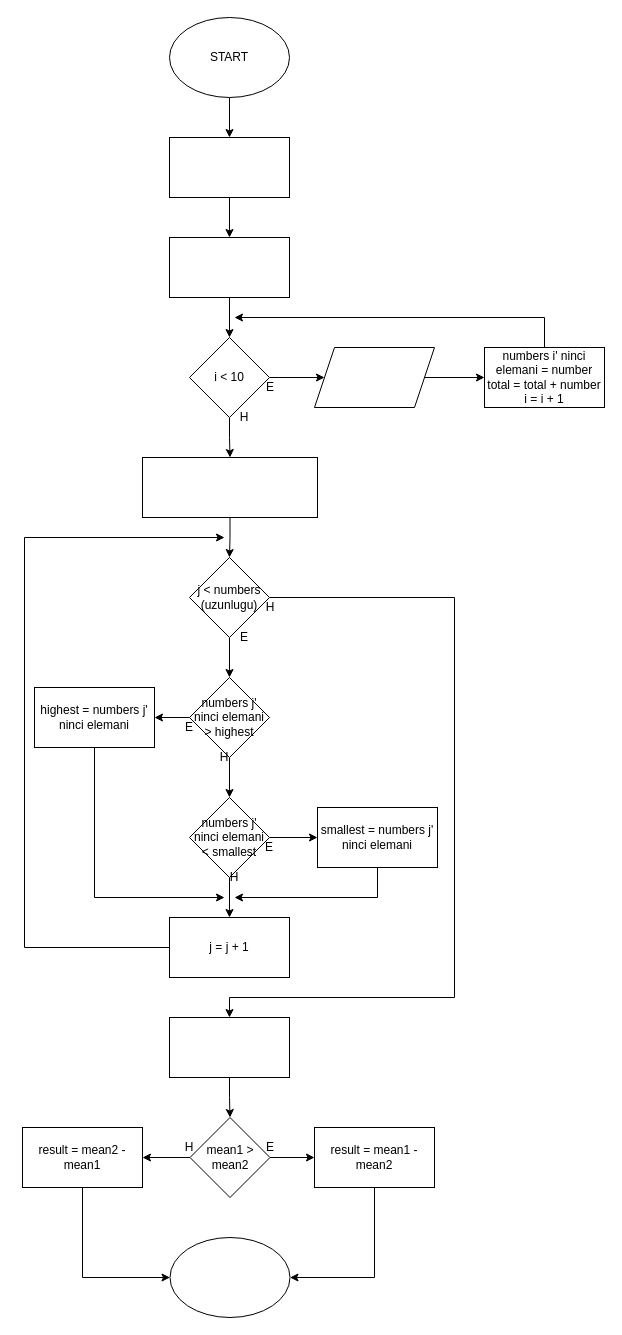
Image size: 622x1335. Some labels were removed from this diagram. The shapes that lost their labels are listed below. From the top down, each one's centre as x and y in pixels, then its label:
At point (229, 167): "tek boyutlu 10 elemanli int tipinde numbers dizisi".
At point (229, 267): "number, highest, smallest, mean1, mean2, result, total = 0, i = 0, j = 0".
At point (374, 377): "number".
At point (230, 487): "highest = numbers 0. elemani smallest = numbers 0. elemani mean1 = total / 10".
At point (229, 1047): "mean2 = (highest + smallest) / 2".
At point (229, 1277): "STOP".
